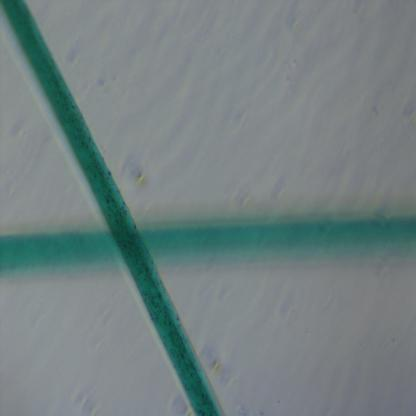Background material: (130, 158, 148, 190)
Microfibre: (0, 1, 227, 415), (0, 195, 416, 280)
